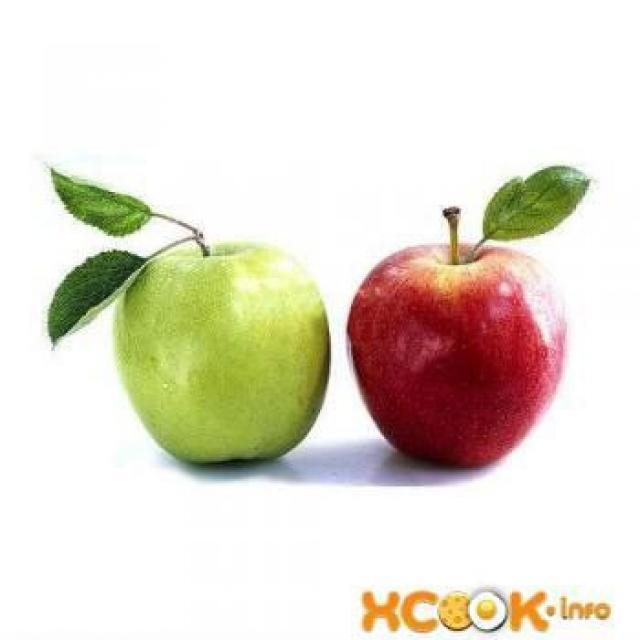Fresh Apple: (110, 235, 332, 475), (347, 234, 570, 468)
